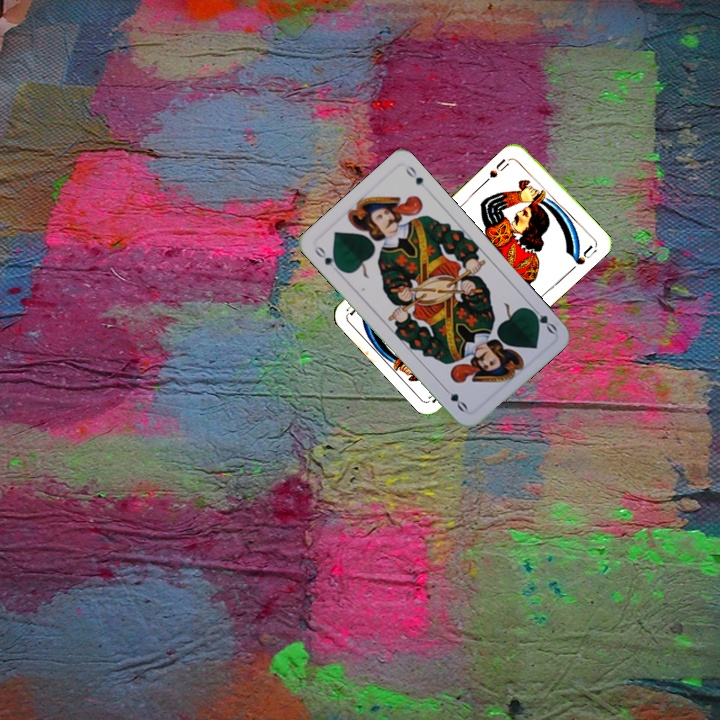GO: (525, 302, 560, 336), (310, 242, 344, 273)
SU: (485, 154, 512, 181)
